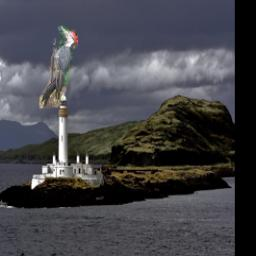Woodpecker: (39, 25, 78, 108)
